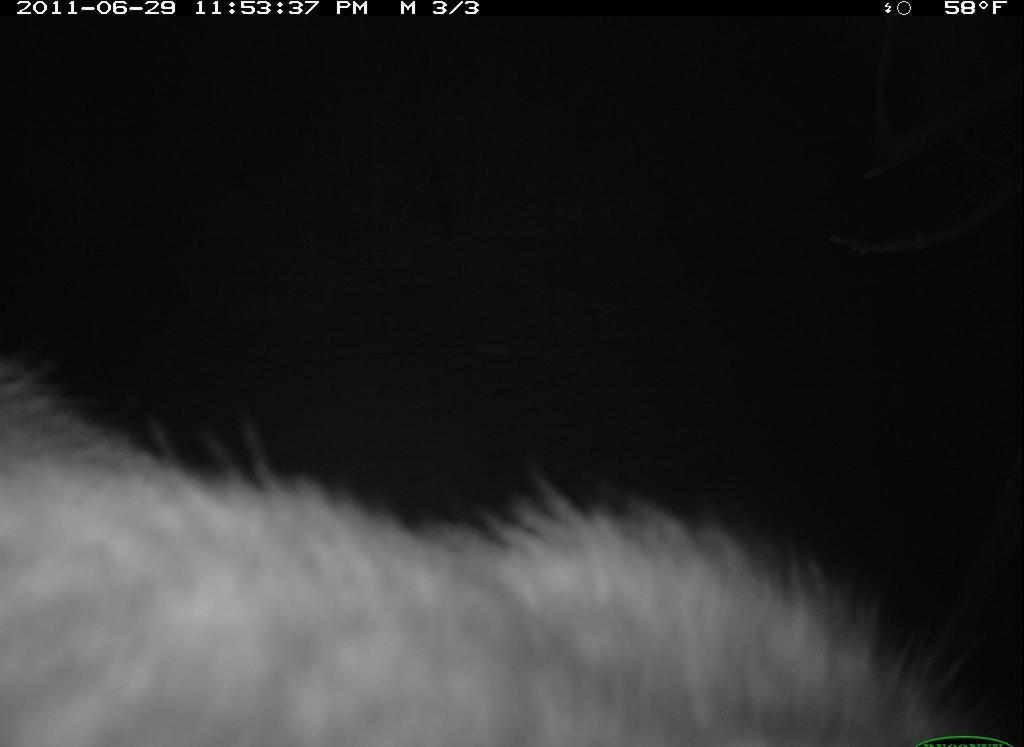raccoon: (1, 332, 1000, 731)
